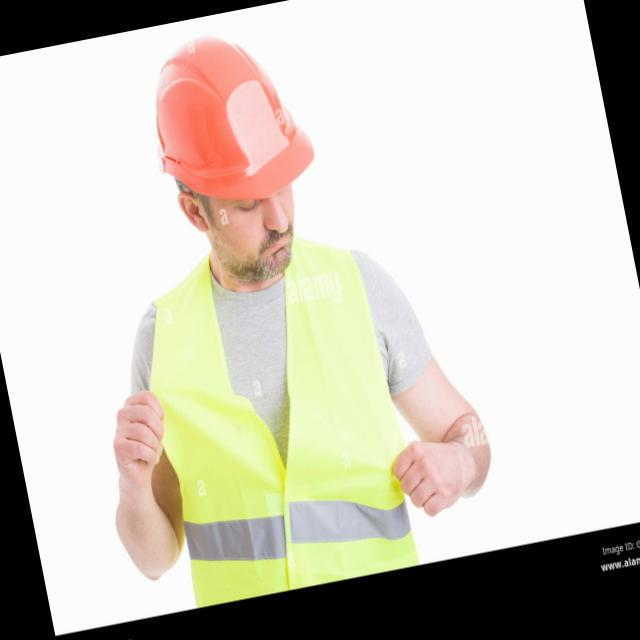helmet: (114, 16, 330, 228)
vest: (128, 228, 426, 609)
